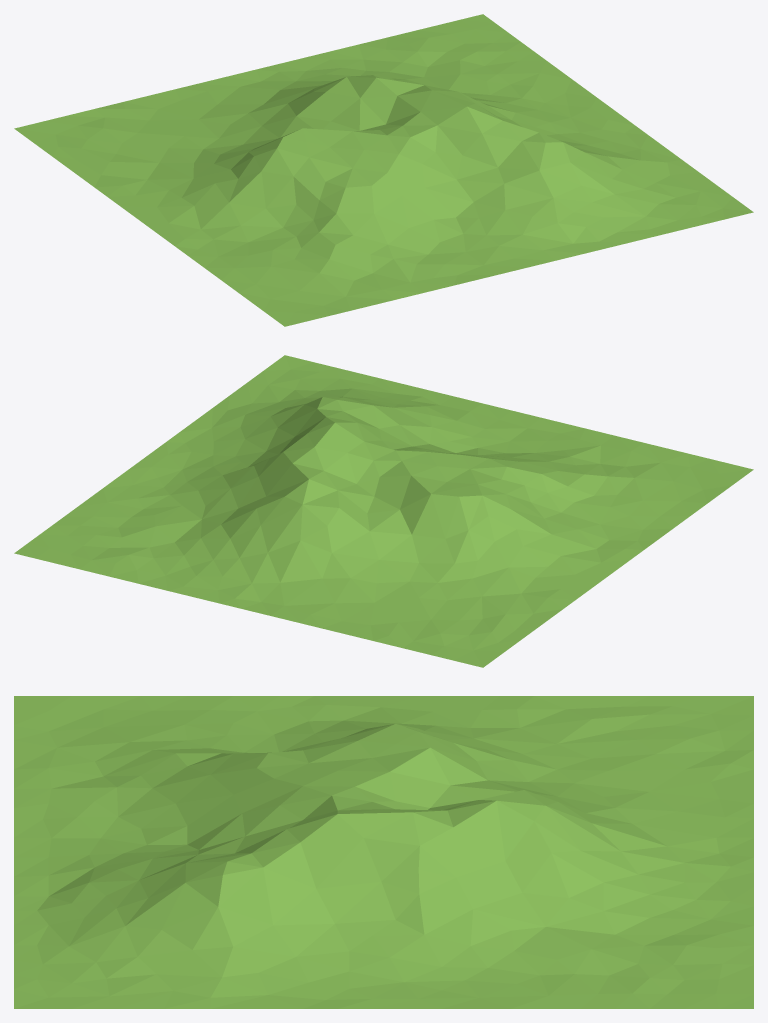
Rendered from MT_Terrain_M_a_26_LOD.fbx.
The picture shows the model from 3 angles, top to bottom: view 1: azimuth 30°, elevation 25°; view 2: azimuth 150°, elevation 25°; view 3: azimuth 270°, elevation 25°; orthographic projection. The views are drawn at different scales.
Parts seen in each view (by area): view 1: MT_Terrain_M_a_26_LOD0; view 2: MT_Terrain_M_a_26_LOD0; view 3: MT_Terrain_M_a_26_LOD0.
Part boxes in pixels (x1,y1,x2,y2): MT_Terrain_M_a_26_LOD0: (14,14,753,326); MT_Terrain_M_a_26_LOD0: (14,355,753,667); MT_Terrain_M_a_26_LOD0: (14,696,753,1008).
Size of what is drawn, in the model's own units: 5000 by 622 by 5000.
